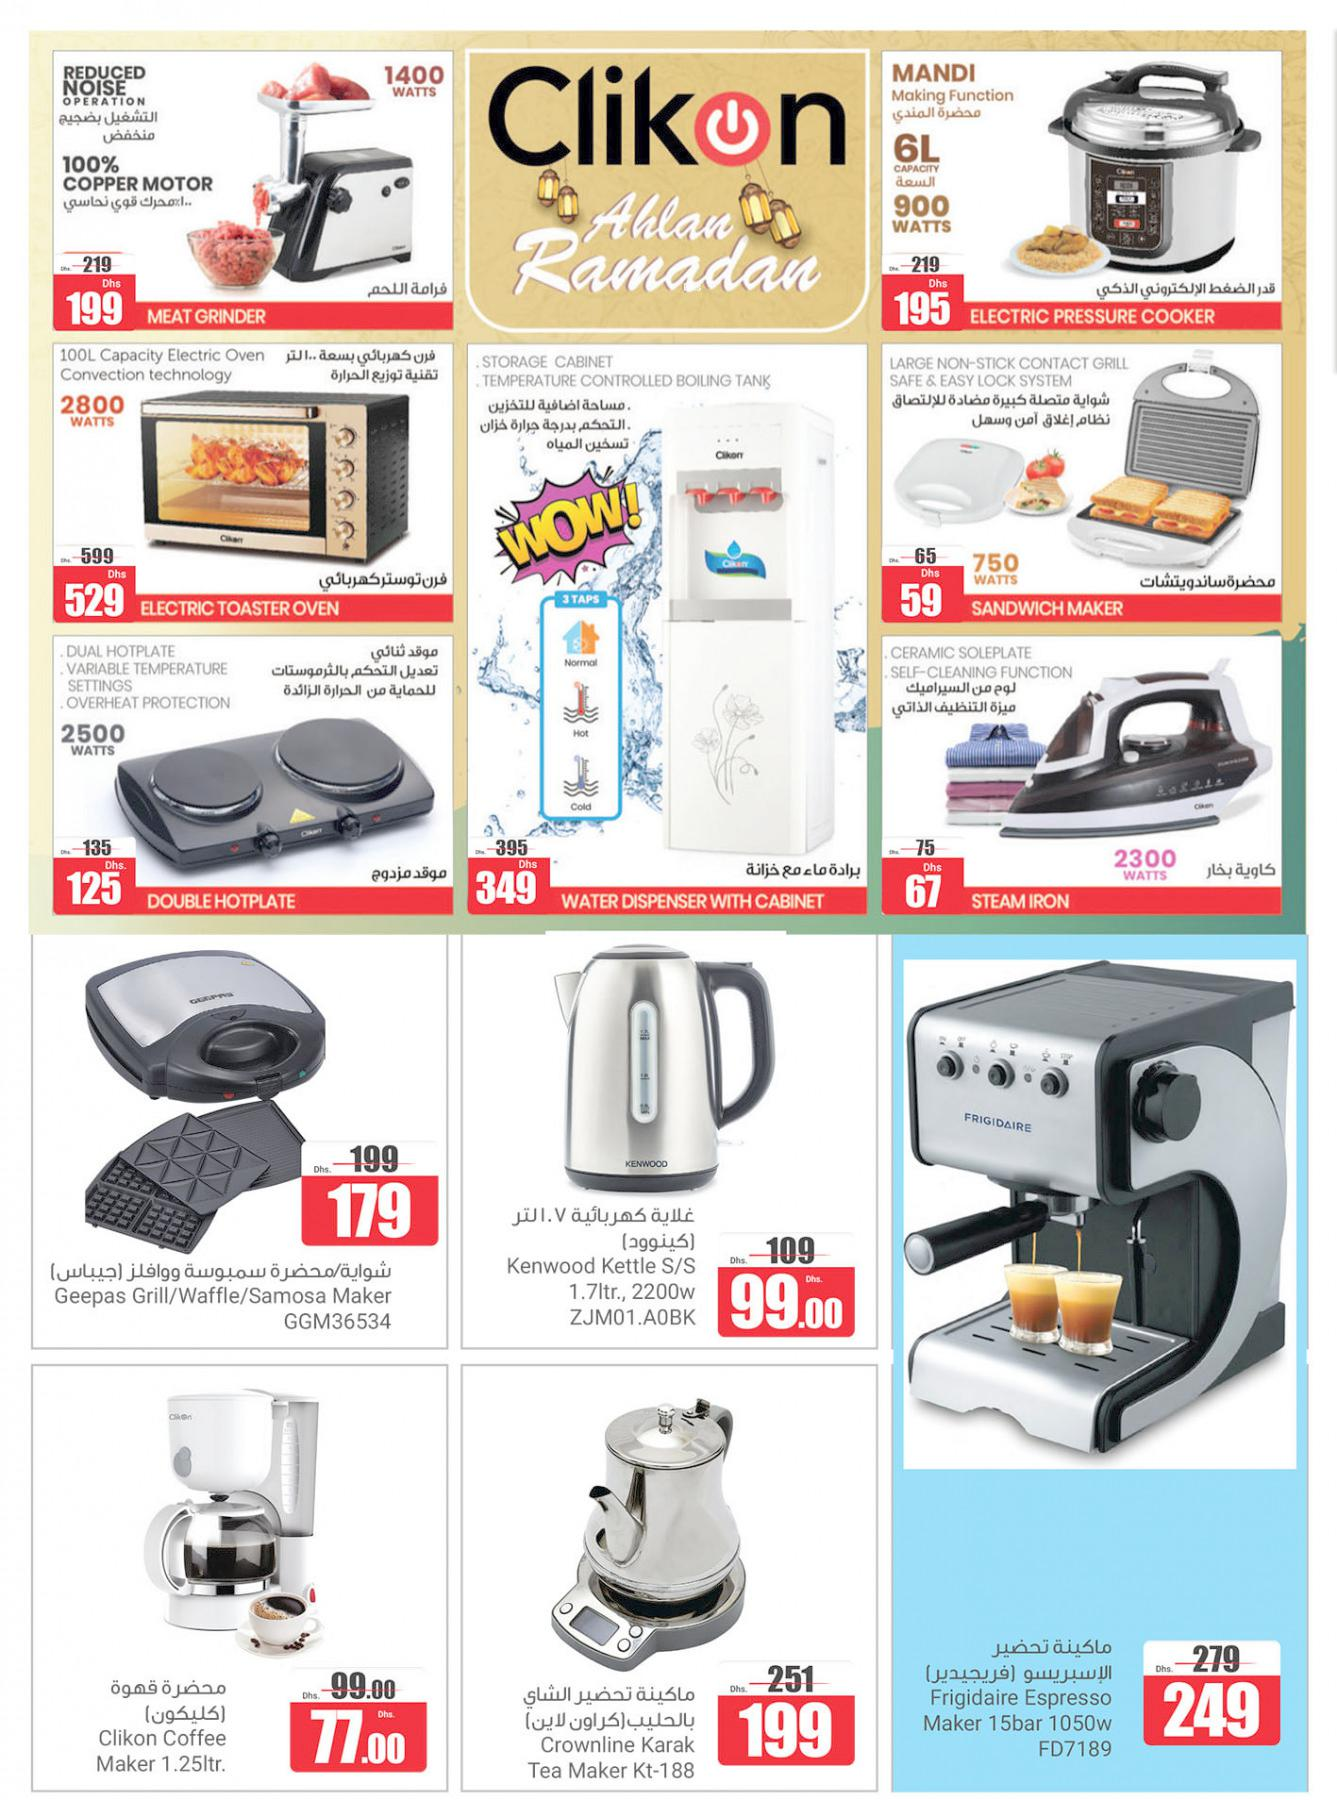text: (46, 1283, 409, 1334), (499, 1247, 711, 1332), (914, 1686, 1122, 1766), (58, 633, 240, 717), (910, 1627, 1129, 1689), (472, 350, 782, 393), (508, 1675, 711, 1735), (263, 640, 449, 705), (878, 637, 1091, 687), (42, 1259, 414, 1288), (507, 1202, 706, 1252), (480, 395, 643, 456), (883, 56, 1025, 126), (889, 350, 1136, 389), (77, 1723, 246, 1780), (58, 343, 271, 388), (886, 393, 1119, 431), (79, 1674, 242, 1727), (277, 343, 449, 390), (52, 152, 229, 197), (965, 302, 1229, 331), (553, 887, 833, 914), (883, 678, 1041, 723), (1084, 270, 1279, 303), (53, 59, 167, 112), (132, 595, 355, 619), (966, 594, 1138, 621), (140, 887, 310, 914), (56, 110, 177, 146), (1133, 564, 1279, 593), (140, 302, 277, 331), (316, 564, 452, 594), (739, 855, 864, 885), (55, 194, 208, 216), (968, 887, 1079, 913), (367, 272, 448, 303), (362, 861, 449, 887), (1202, 854, 1278, 883)
